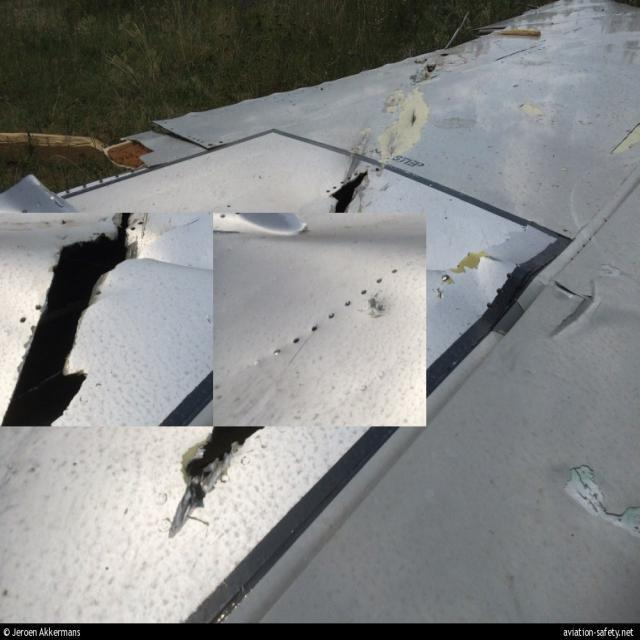crack: (1, 212, 142, 427), (175, 427, 268, 524), (558, 459, 640, 541), (546, 279, 603, 341), (327, 166, 369, 213), (407, 107, 418, 128)
dent: (360, 294, 393, 323)
